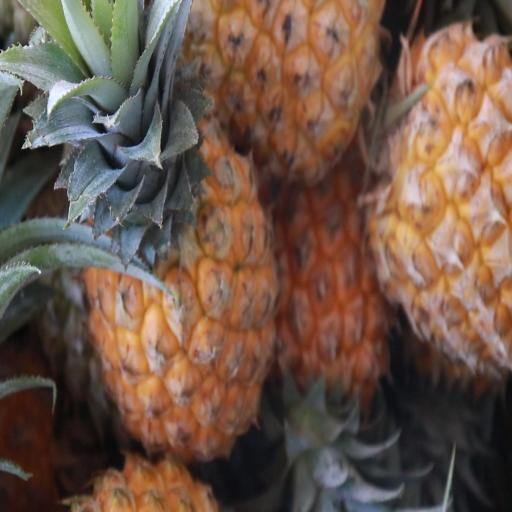Pineapple - v8 v1: (88, 148, 279, 454), (372, 24, 512, 370), (192, 0, 379, 174), (273, 160, 400, 403)
